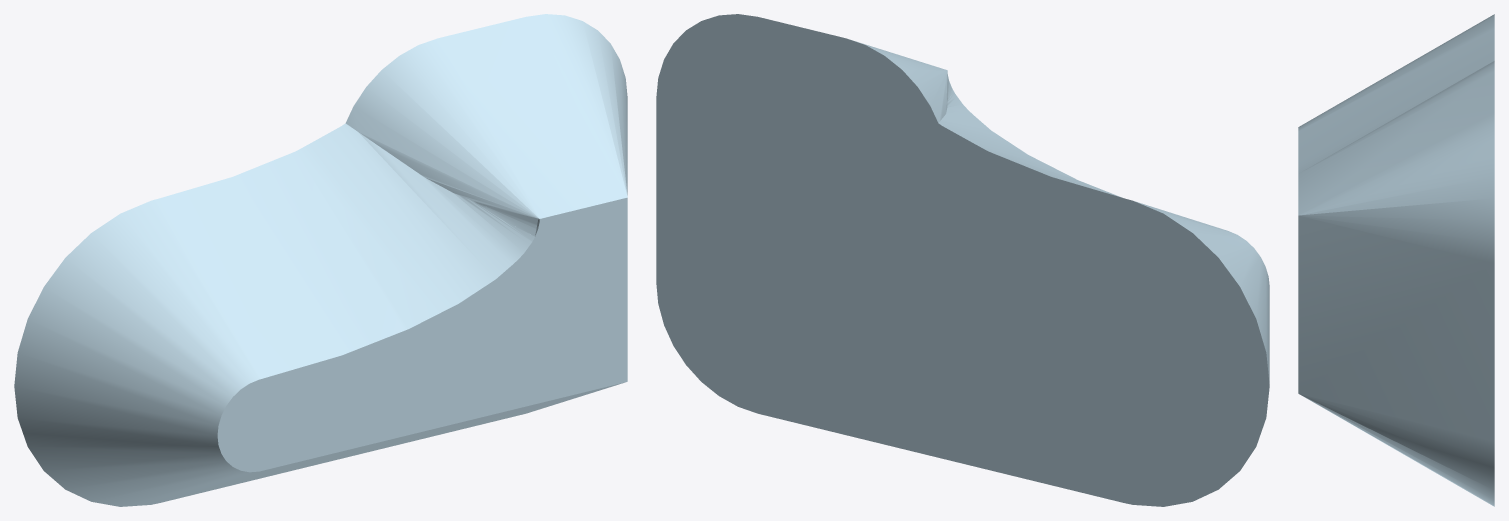
Rendered from Engrave4.glb.
3 views of the same model, side by side, from view 1: azimuth 30°, elevation 25°; view 2: azimuth 150°, elevation 25°; view 3: azimuth 270°, elevation 25° (orthographic). The views are drawn at different scales.
Visible parts, largest first — view 1: Part 1; view 2: Part 1; view 3: Part 1.
Part boxes in pixels (x1,y1,x2,y2): Part 1: (14,14,627,506); Part 1: (656,14,1269,506); Part 1: (1298,14,1494,506).
Size of the model in its own units: 0.0885 by 0.0547 by 0.0254.
